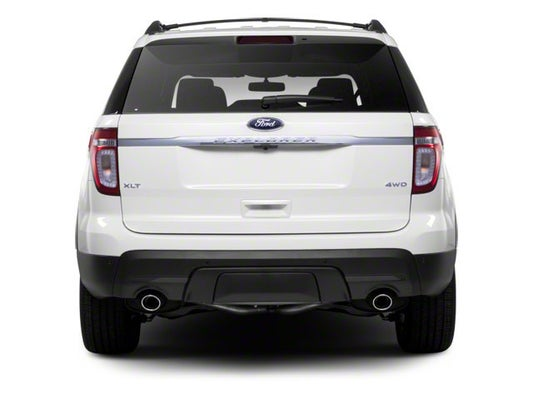Ford Explorer: (75, 18, 458, 355)
